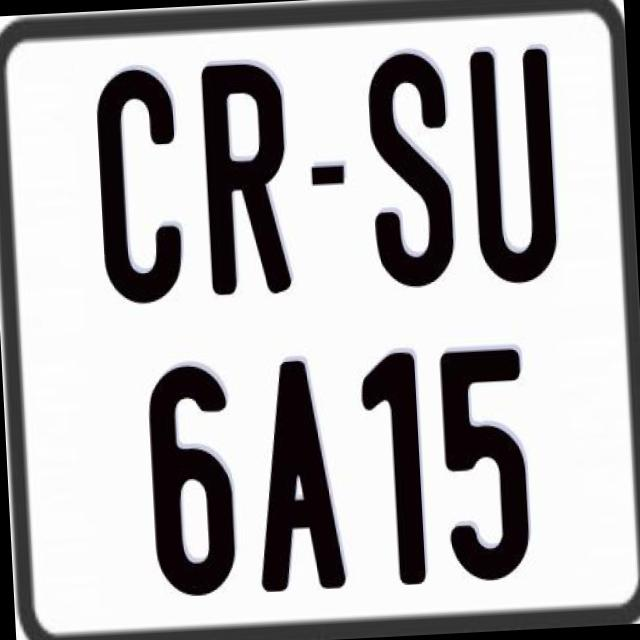1: (356, 352, 424, 587)
5: (438, 345, 536, 584)
6: (146, 362, 242, 602)
A: (248, 356, 350, 589)
C: (94, 64, 184, 310)
R: (201, 59, 293, 295)
S: (364, 49, 460, 288)
U: (464, 44, 554, 280)
